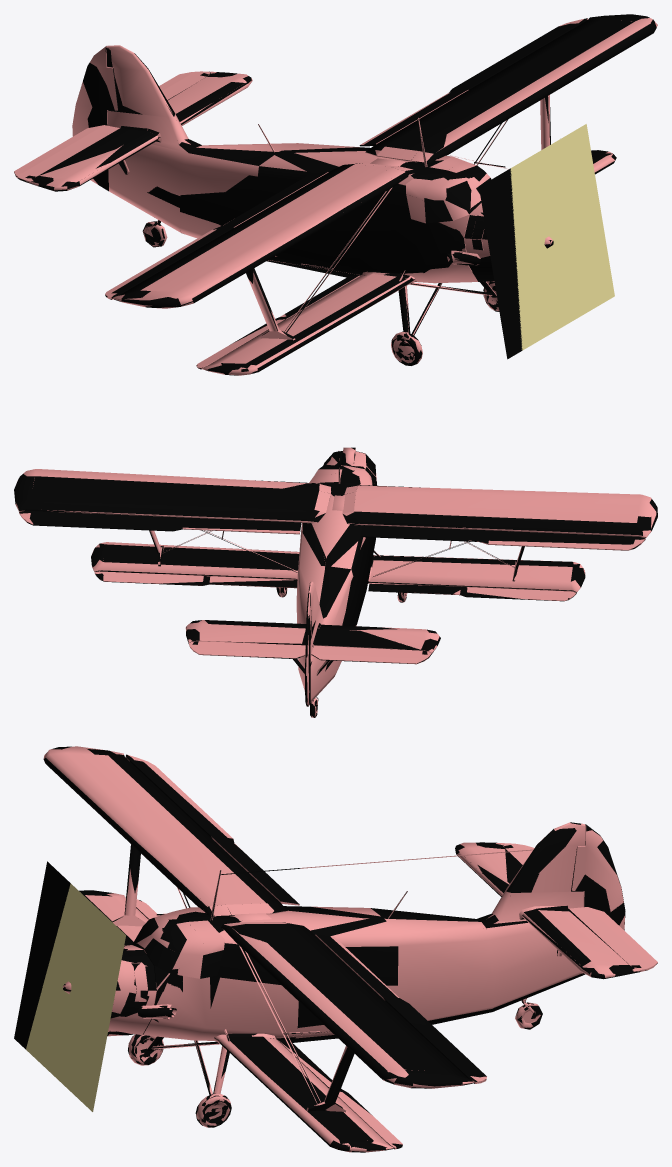
3 renders of one model, top to bottom at view 1: azimuth 30°, elevation 25°; view 2: azimuth 150°, elevation 25°; view 3: azimuth 270°, elevation 25°, orthographic. The views are drawn at different scales.
Visible parts, largest first — view 1: Obj3d66-453890-2-29, Obj3d66_453890_2_29, Obj3d66_453890_1_908, Obj3d66-453890-1-908; view 2: Obj3d66-453890-2-29, Obj3d66_453890_2_29; view 3: Obj3d66_453890_2_29, Obj3d66-453890-2-29, Obj3d66_453890_1_908, Obj3d66-453890-1-908.
Boxes of the visible parts, x1,y1,x2,y2 form: Obj3d66-453890-2-29: (14,14,656,375); Obj3d66_453890_2_29: (14,18,657,375); Obj3d66_453890_1_908: (510,124,614,350); Obj3d66-453890-1-908: (479,168,522,359); Obj3d66-453890-2-29: (14,447,657,717); Obj3d66_453890_2_29: (15,447,656,717); Obj3d66_453890_2_29: (43,746,657,1152); Obj3d66-453890-2-29: (43,746,657,1152); Obj3d66_453890_1_908: (26,883,125,1111); Obj3d66-453890-1-908: (14,861,70,1049).
Size of the model in its own units: 0.3605 by 0.107 by 0.2855.
